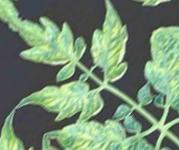Tomato leaf mosaic virus: (13, 51, 111, 149), (62, 0, 156, 85), (4, 0, 95, 86), (43, 81, 151, 150), (113, 28, 179, 117)
